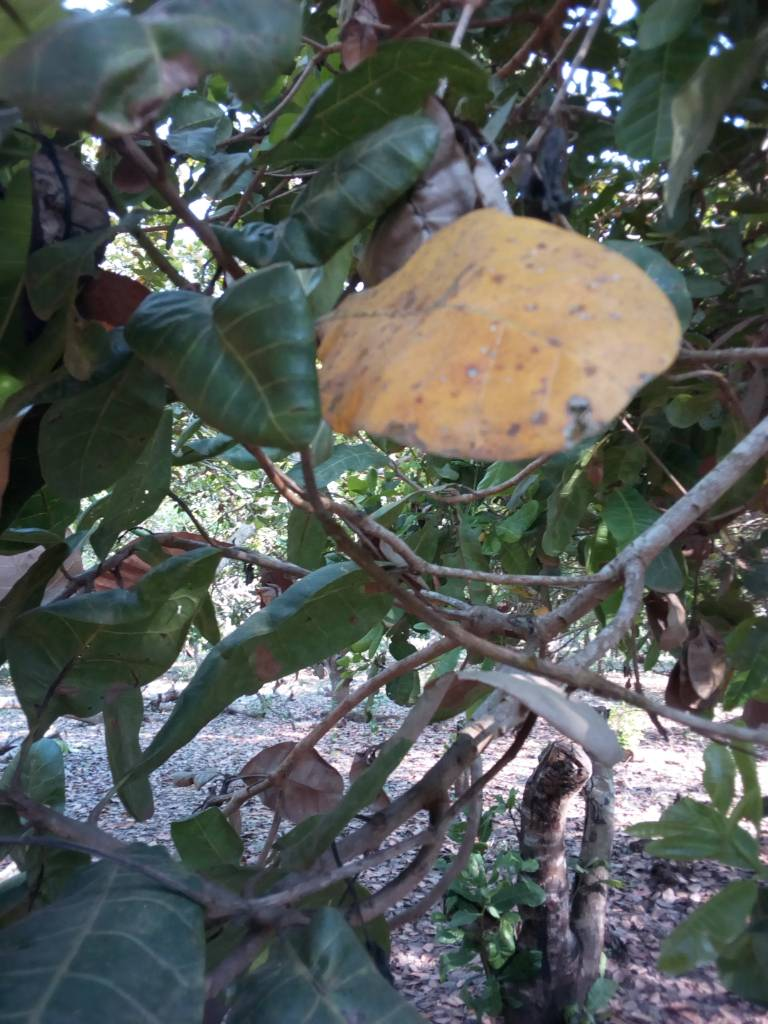Anthracnose: (321, 203, 680, 453), (127, 555, 377, 777), (15, 1, 224, 141)
